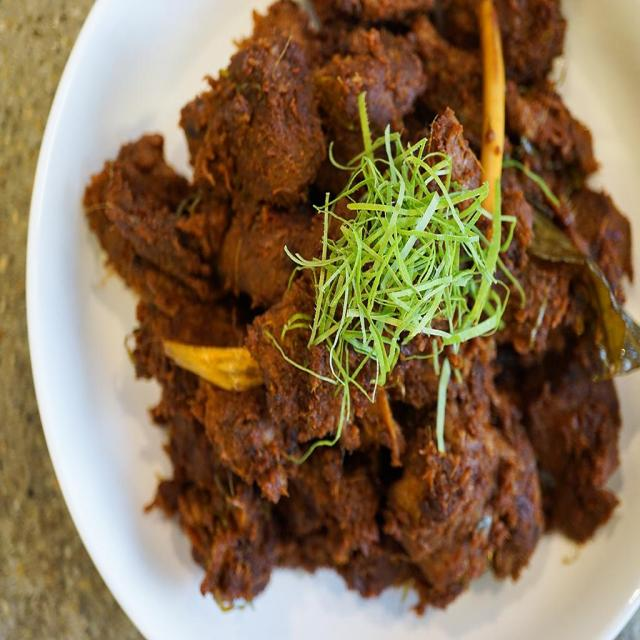Rendang: (78, 0, 640, 633)
